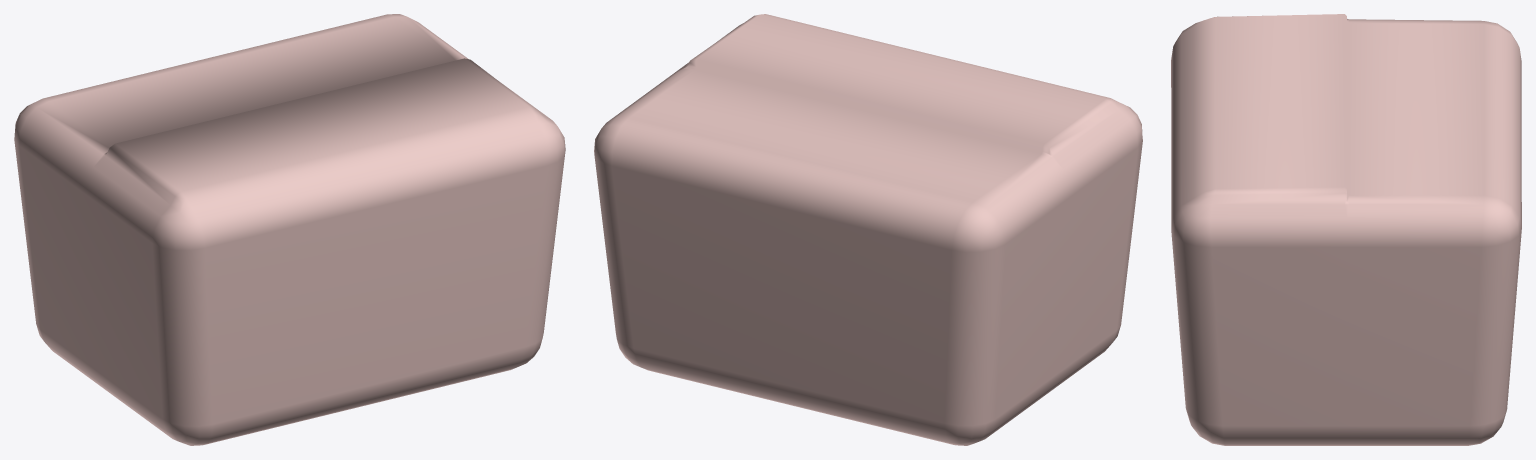
File: Props_L_SupplyBox.fbx
3 views of the same model, side by side, from view 1: azimuth 30°, elevation 25°; view 2: azimuth 150°, elevation 25°; view 3: azimuth 270°, elevation 25° (orthographic).
Visible parts, largest first — view 1: Props_SupplyBox; view 2: Props_SupplyBox; view 3: Props_SupplyBox.
Boxes of the visible parts, x1,y1,x2,y2 form: Props_SupplyBox: (14,14,565,445); Props_SupplyBox: (594,14,1142,445); Props_SupplyBox: (1171,14,1521,445).
Size of the model in its own units: 208 by 127 by 152.
